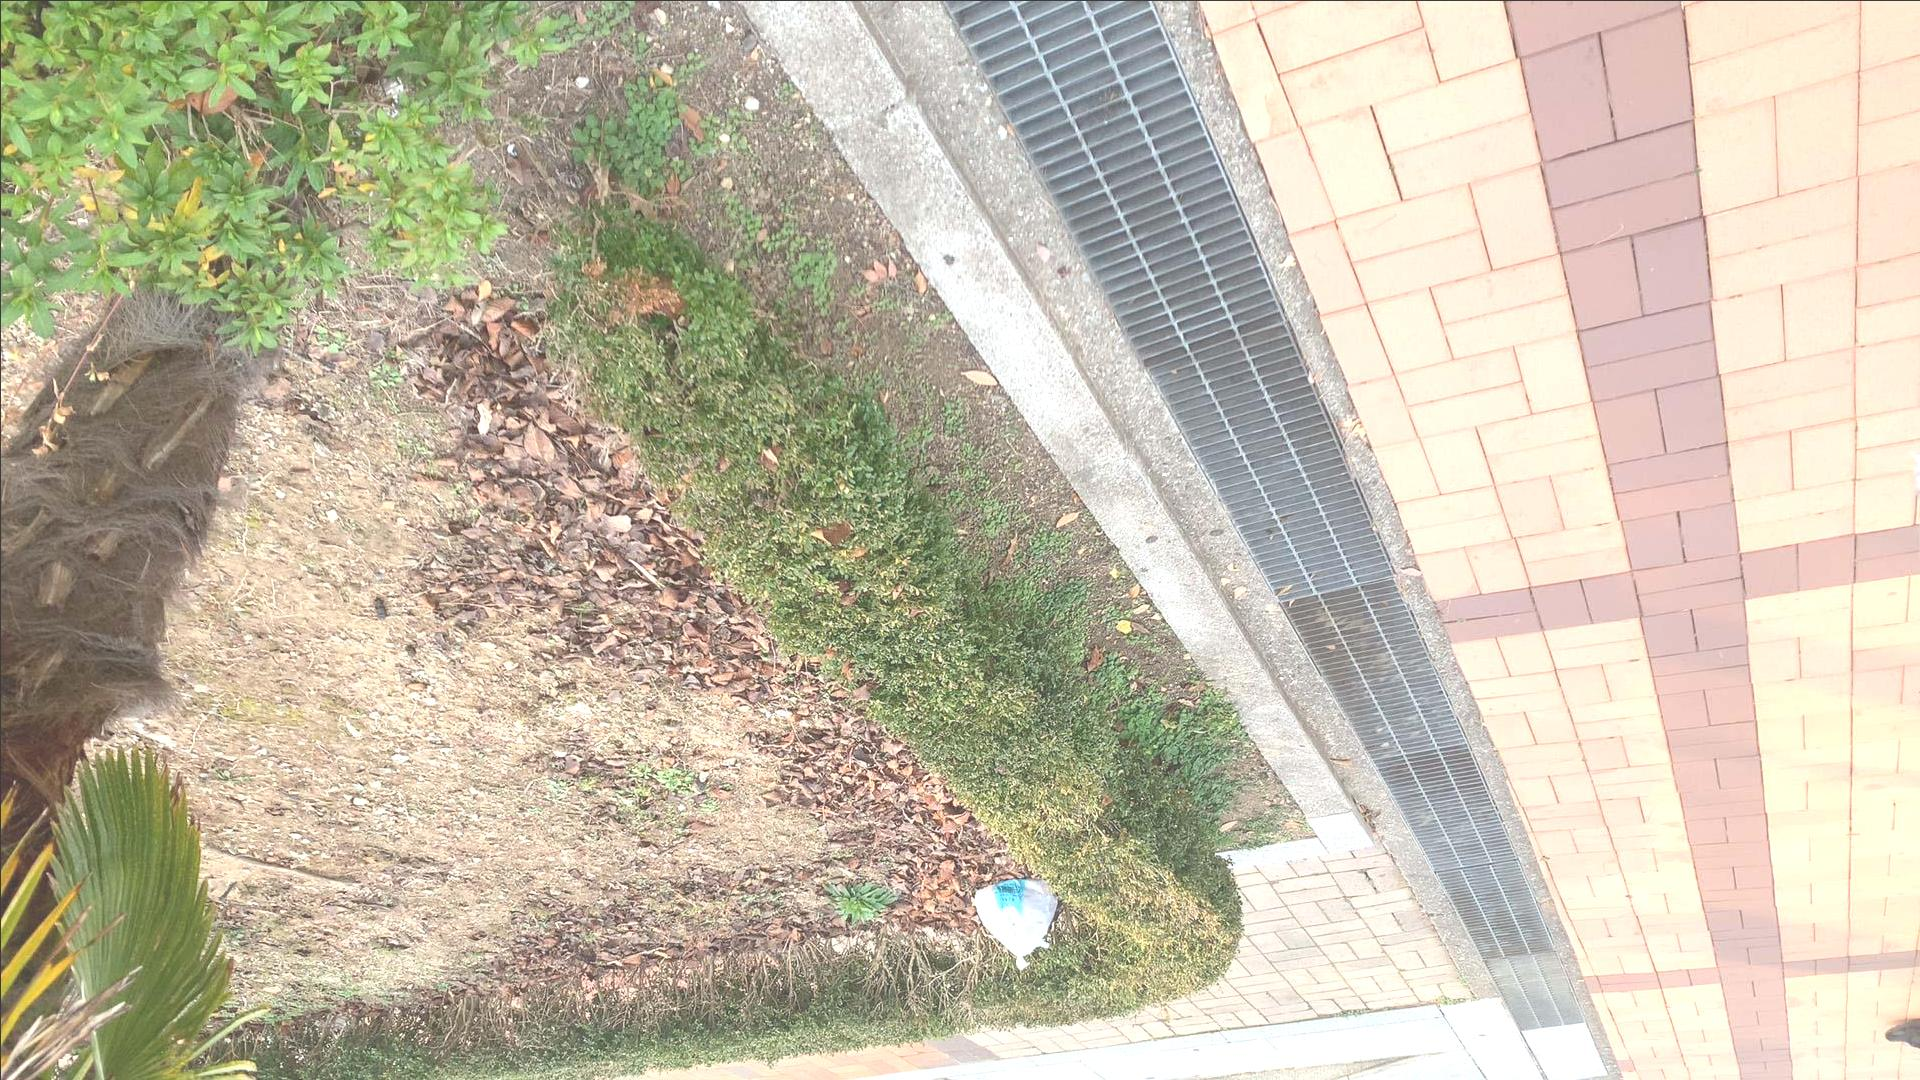white_bag: (971, 869, 1065, 978)
